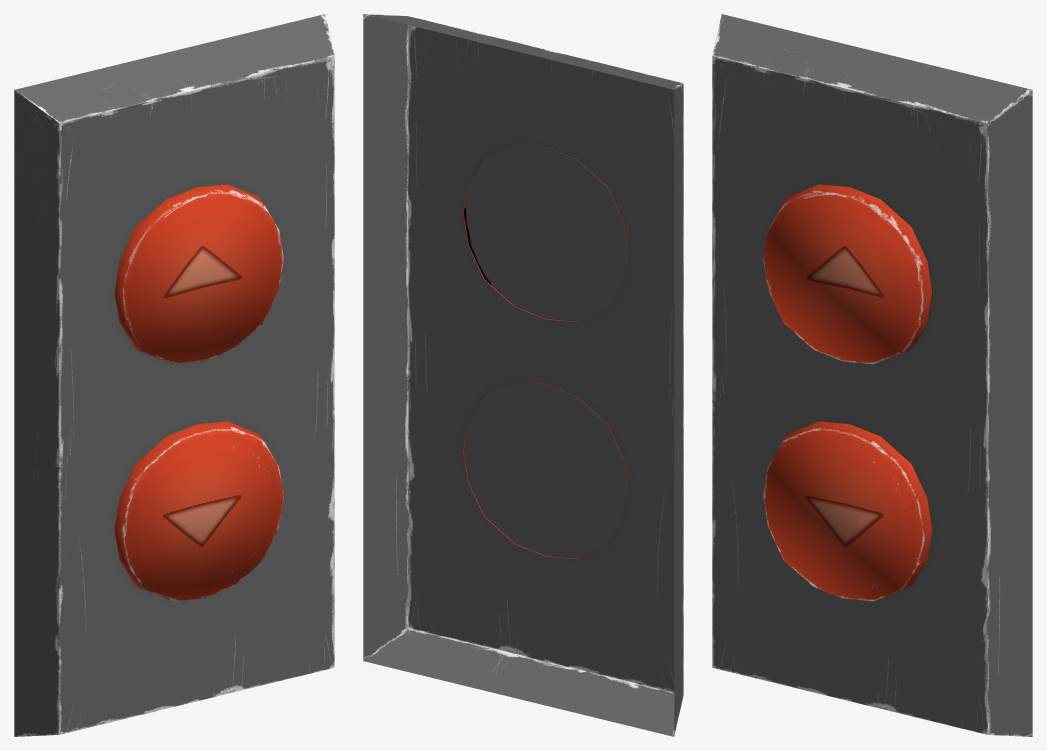
File: Button_04.FBX
3 views of the same model, side by side, from view 1: azimuth 30°, elevation 25°; view 2: azimuth 150°, elevation 25°; view 3: azimuth 330°, elevation 25° (orthographic).
Parts seen in each view (by area): view 1: Button_04, Button_04_part_bottom, Button_04_part_top; view 2: Button_04; view 3: Button_04, Button_04_part_bottom, Button_04_part_top.
Boxes of the visible parts, <box> form: Button_04: <box>14,14,334,736</box>; Button_04_part_bottom: <box>114,421,283,601</box>; Button_04_part_top: <box>114,184,283,364</box>; Button_04: <box>363,14,683,736</box>; Button_04: <box>712,14,1032,736</box>; Button_04_part_bottom: <box>763,421,932,601</box>; Button_04_part_top: <box>763,184,932,364</box>.
Size of the model in its own units: 6.21 by 12.35 by 1.18.
1 material, 1 textured.
